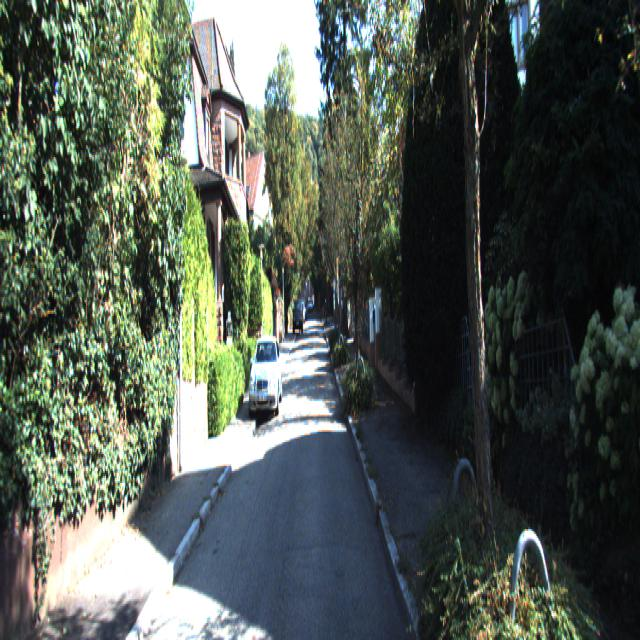Car: (248, 334, 282, 422), (292, 300, 304, 337)
